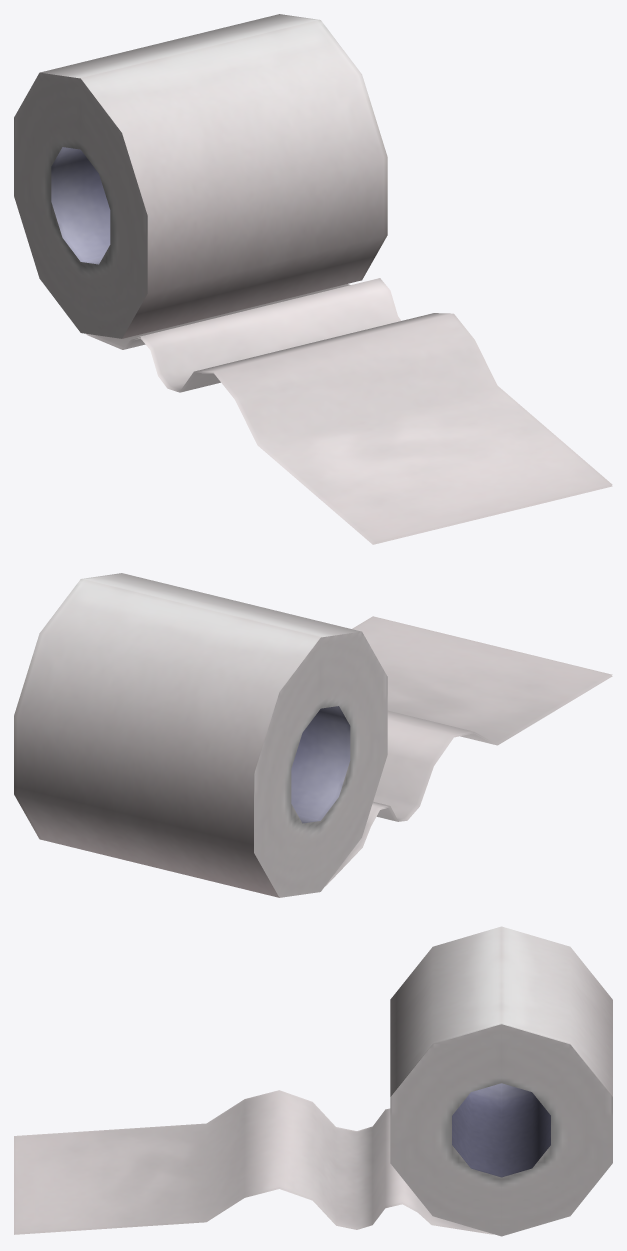
The model's file is PiErSenGongYu_01_juanzhi_01.FBX.
The picture shows the model from 3 angles, top to bottom: view 1: azimuth 30°, elevation 25°; view 2: azimuth 150°, elevation 25°; view 3: azimuth 270°, elevation 25°; orthographic projection. The views are drawn at different scales.
Parts seen in each view (by area): view 1: PiErSenDeGongYu_juanzhi_01; view 2: PiErSenDeGongYu_juanzhi_01; view 3: PiErSenDeGongYu_juanzhi_01.
Part boxes in pixels (<box>): PiErSenDeGongYu_juanzhi_01: <box>14,14,612,544</box>; PiErSenDeGongYu_juanzhi_01: <box>14,573,612,897</box>; PiErSenDeGongYu_juanzhi_01: <box>14,926,612,1236</box>.
Bounding box in the file's own units: 43.28 × 43.85 × 112.
